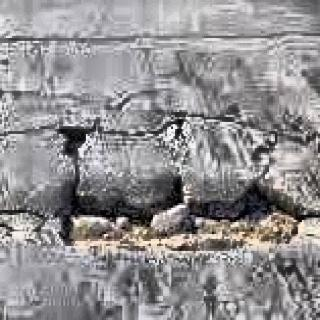crack: (107, 106, 313, 148)
pothole: (44, 170, 309, 259), (44, 121, 104, 155)
